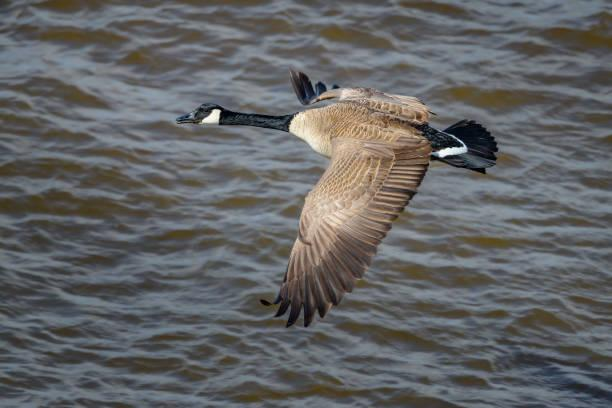Canadian-Goose: (177, 67, 501, 314)
